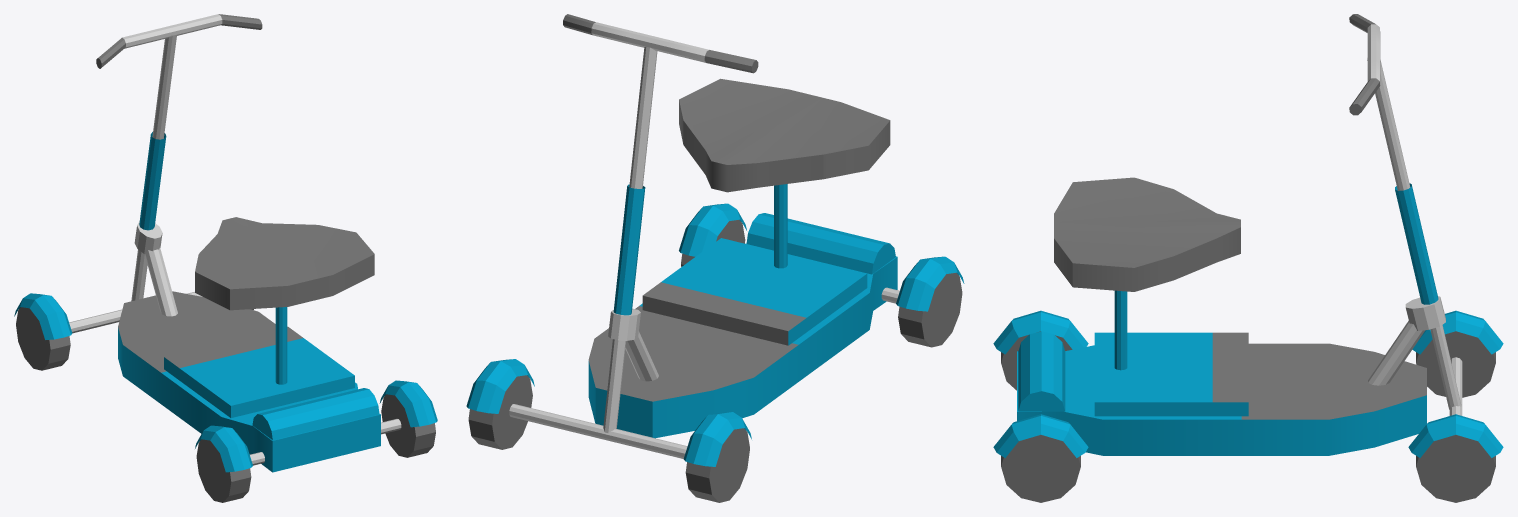
Rendered from scooter2.fbx.
The picture shows the model from 3 angles, left to right: view 1: azimuth 30°, elevation 25°; view 2: azimuth 150°, elevation 25°; view 3: azimuth 270°, elevation 25°; orthographic projection. The views are drawn at different scales.
Visible parts, largest first — view 1: pCube1, pCube2, pCube3, pCylinder13, pCylinder1, pCylinder5, pasted__pCylinder6, pCylinder4, pCylinder8, pCylinder11, pTorus3, pTorus1 (+5 smaller); view 2: pCube1, pCube2, pCube3, pCylinder13, pCylinder8, pCylinder5, pCylinder1, pasted__pCylinder6, pCylinder6, pCylinder7, pCylinder11, pTorus3 (+7 smaller); view 3: pCube1, pCube2, pCube3, pCylinder4, pCylinder6, pCylinder13, pCylinder5, pCylinder8, pCylinder11, pTorus2, pTorus4, pTorus1 (+6 smaller).
Boxes of the visible parts, x1,y1,x2,y2 form: pCube1: (118,291,380,472); pCube2: (195,217,374,310); pCube3: (164,326,354,417); pCylinder13: (252,388,379,440); pCylinder1: (196,439,251,502); pCylinder5: (16,307,70,370); pasted__pCylinder6: (96,14,262,68); pCylinder4: (381,394,435,457); pCylinder8: (131,35,176,301); pCylinder11: (139,132,166,230); pTorus3: (14,293,72,339); pTorus1: (195,425,252,472); pCube1: (588,243,897,438); pCube2: (679,78,890,192); pCube3: (642,238,867,345); pCylinder13: (746,213,895,274); pCylinder8: (603,46,657,433); pCylinder5: (685,428,749,502); pCylinder1: (898,273,962,347); pasted__pCylinder6: (563,14,758,73); pCylinder6: (468,375,532,449); pCylinder7: (509,404,687,458); pCylinder11: (613,184,645,315); pTorus3: (683,412,751,466); pCube1: (1017,343,1426,455); pCube2: (1054,177,1240,291); pCube3: (1094,332,1248,416); pCylinder4: (1001,435,1080,502); pCylinder6: (1416,435,1495,502); pCylinder13: (1018,331,1065,411); pCylinder5: (1416,331,1495,397); pCylinder8: (1367,58,1461,409); pCylinder11: (1395,183,1438,304); pTorus2: (993,414,1088,457); pTorus4: (1408,414,1503,457); pTorus1: (993,310,1088,354).
Bounding box in the file's own units: 10.56 × 16.33 × 19.16.
